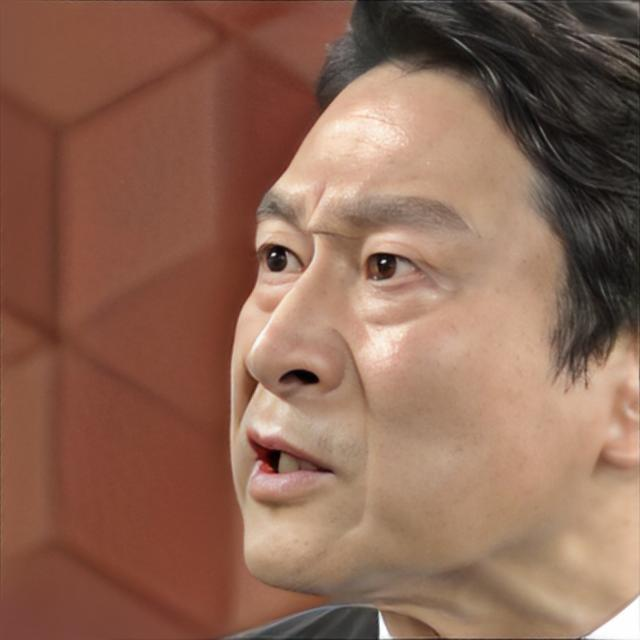anger: (228, 53, 586, 590)
